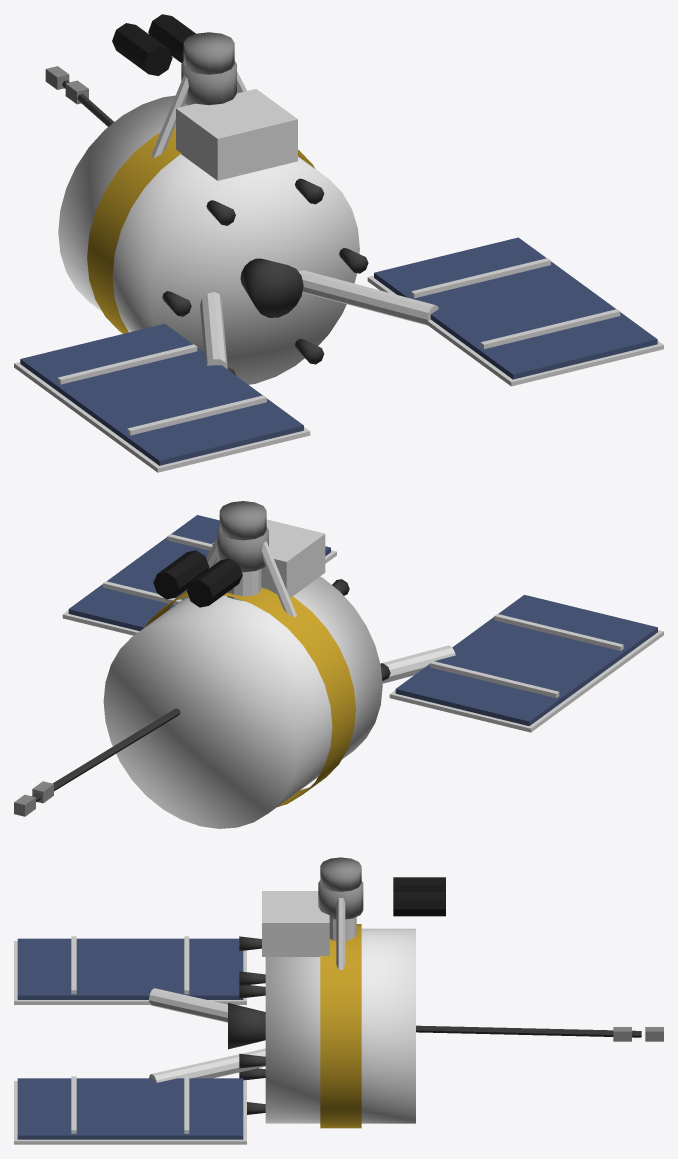
Rendered from Probe_Solar_Body.glb.
3 views of the same model, one above another, from view 1: azimuth 30°, elevation 25°; view 2: azimuth 150°, elevation 25°; view 3: azimuth 270°, elevation 25° (orthographic). The views are drawn at different scales.
Visible parts, largest first — view 1: Probe_Bus, Probe_Panel_L, Probe_Panel_R, Probe_Housing, Probe_Bus_MLI, Probe_Boom_R, Probe_Thruster, Probe_Panel_Frame_L, Probe_Panel_Frame_R, Probe_Mast_Hub, Probe_Cam_Narrow, Probe_Scan_Platform (+7 smaller); view 2: Probe_Bus, Probe_Panel_L, Probe_Bus_MLI, Probe_Panel_R, Probe_Housing, Probe_Panel_Frame_L, Probe_Mast_Hub, Probe_Cam_Narrow, Probe_Cam_Wide, Probe_Scan_Platform, Probe_Mag_Boom, Probe_Boom_L (+6 smaller); view 3: Probe_Bus, Probe_Panel_R, Probe_Panel_L, Probe_Bus_MLI, Probe_Housing, Probe_Panel_Frame_R, Probe_Mag_Boom, Probe_Boom_R, Probe_Boom_L, Probe_Thruster, Probe_Cam_Wide, Probe_Mast_Hub (+4 smaller).
Part boxes in pixels (left/top/right/bottom): Probe_Bus: left=58, top=95, right=359, bottom=384; Probe_Panel_L: left=20, top=323, right=303, bottom=465; Probe_Panel_R: left=374, top=237, right=657, bottom=379; Probe_Housing: left=176, top=89, right=297, bottom=180; Probe_Bus_MLI: left=87, top=124, right=315, bottom=333; Probe_Boom_R: left=298, top=270, right=438, bottom=325; Probe_Thruster: left=240, top=258, right=303, bottom=317; Probe_Panel_Frame_L: left=14, top=362, right=310, bottom=472; Probe_Panel_Frame_R: left=367, top=275, right=663, bottom=386; Probe_Mast_Hub: left=183, top=32, right=234, bottom=74; Probe_Cam_Narrow: left=112, top=23, right=172, bottom=75; Probe_Scan_Platform: left=181, top=61, right=236, bottom=105; Probe_Bus: left=103, top=576, right=382, bottom=828; Probe_Panel_L: left=395, top=595, right=657, bottom=726; Probe_Bus_MLI: left=145, top=587, right=355, bottom=807; Probe_Panel_R: left=68, top=515, right=330, bottom=630; Probe_Housing: left=212, top=519, right=325, bottom=597; Probe_Panel_Frame_L: left=389, top=630, right=663, bottom=732; Probe_Mast_Hub: left=219, top=501, right=266, bottom=540; Probe_Cam_Narrow: left=187, top=558, right=242, bottom=607; Probe_Cam_Wide: left=153, top=550, right=209, bottom=599; Probe_Scan_Platform: left=217, top=527, right=268, bottom=572; Probe_Mag_Boom: left=32, top=708, right=180, bottom=802; Probe_Boom_L: left=380, top=645, right=455, bottom=683; Probe_Bus: left=265, top=928, right=415, bottom=1123; Probe_Panel_R: left=17, top=1078, right=243, bottom=1139; Probe_Panel_L: left=17, top=938, right=243, bottom=999; Probe_Bus_MLI: left=320, top=924, right=361, bottom=1128; Probe_Housing: left=262, top=891, right=329, bottom=956; Probe_Panel_Frame_R: left=14, top=1081, right=246, bottom=1144; Probe_Mag_Boom: left=416, top=1025, right=641, bottom=1037; Probe_Boom_R: left=149, top=1048, right=265, bottom=1082; Probe_Boom_L: left=149, top=988, right=227, bottom=1022; Probe_Thruster: left=228, top=1003, right=265, bottom=1049; Probe_Cam_Wide: left=393, top=891, right=445, bottom=916; Probe_Mast_Hub: left=320, top=857, right=361, bottom=891.
Size of the model in its own units: 1.26 by 0.742 by 1.73.
